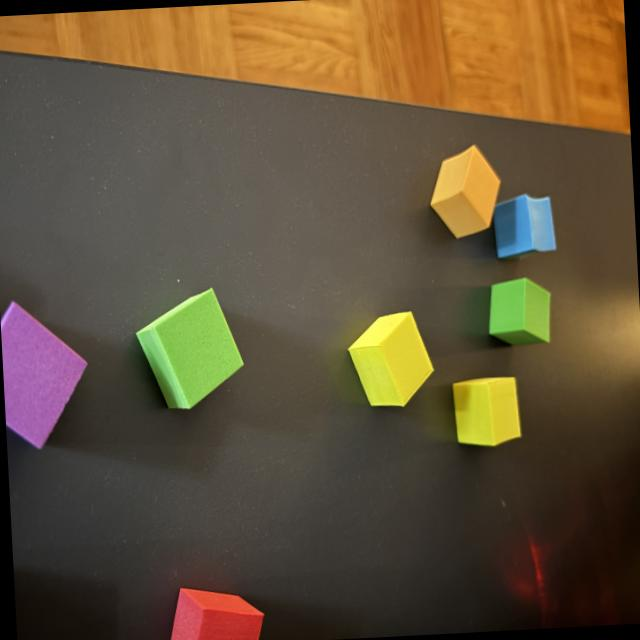bluecube: (493, 195, 555, 258)
greencube: (135, 289, 242, 409), (488, 278, 549, 346)
orangecube: (430, 145, 499, 238)
yellowcube: (347, 312, 432, 406), (452, 377, 520, 446)
